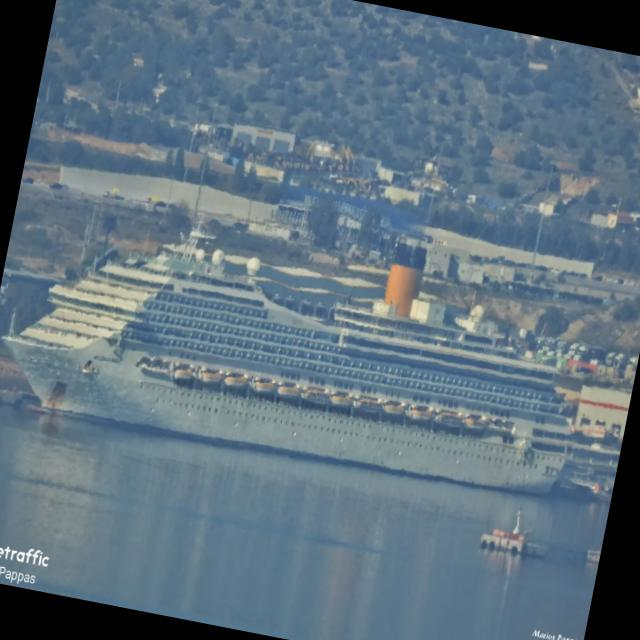Cruise: (6, 230, 568, 492)
